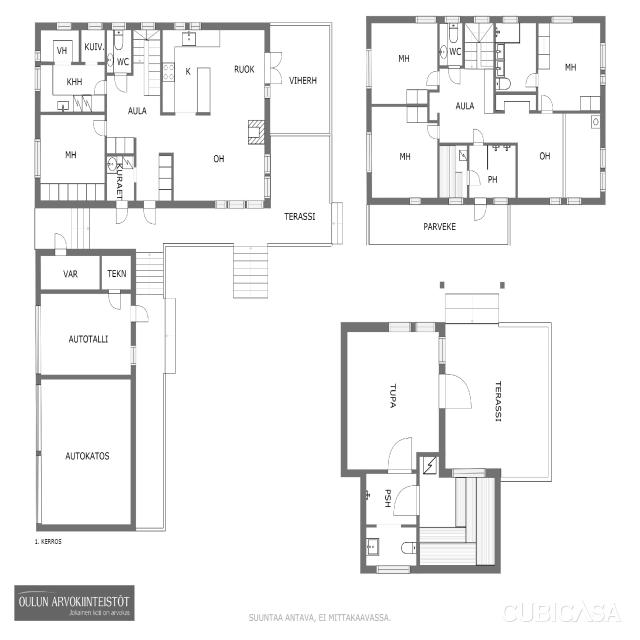door: (369, 473, 420, 524), (439, 370, 477, 417), (385, 434, 417, 476), (392, 482, 421, 520), (263, 51, 284, 88), (113, 202, 130, 228), (131, 303, 151, 325), (52, 230, 68, 256), (142, 202, 158, 227), (107, 288, 123, 312), (423, 69, 441, 89), (473, 199, 488, 223), (539, 92, 555, 114), (91, 118, 108, 138), (113, 71, 128, 93), (447, 64, 461, 86), (524, 70, 540, 89), (92, 78, 108, 96), (425, 122, 440, 141), (471, 127, 485, 147), (467, 170, 481, 188)
window: (34, 389, 44, 529), (386, 318, 439, 335), (215, 197, 264, 211), (448, 464, 492, 479), (33, 304, 41, 374), (373, 562, 412, 576), (263, 152, 273, 202), (598, 40, 608, 90), (598, 146, 608, 193), (364, 46, 374, 90), (436, 332, 448, 368), (365, 130, 374, 176), (33, 136, 42, 181), (548, 196, 583, 207), (548, 14, 576, 26), (171, 21, 202, 30), (413, 14, 439, 24), (490, 195, 510, 207), (84, 21, 106, 31), (499, 14, 521, 24), (472, 14, 492, 25), (130, 342, 138, 369), (34, 64, 41, 94), (264, 78, 272, 103), (53, 21, 75, 30), (110, 22, 128, 32), (444, 16, 462, 25), (446, 197, 464, 205), (408, 197, 423, 206), (84, 58, 100, 66), (138, 22, 156, 29), (186, 22, 204, 29), (35, 48, 41, 66)
zone: (36, 377, 135, 528), (344, 327, 443, 471), (162, 30, 270, 115), (170, 114, 269, 204), (37, 292, 134, 378), (515, 110, 603, 202), (420, 470, 498, 570), (369, 105, 438, 201), (537, 19, 602, 113), (38, 114, 106, 202), (369, 23, 438, 105), (38, 62, 106, 113), (495, 19, 537, 92), (366, 473, 420, 526), (468, 143, 516, 202), (362, 526, 417, 570), (39, 254, 102, 291), (439, 143, 469, 201), (38, 27, 81, 63), (105, 150, 134, 203), (100, 255, 132, 291), (438, 20, 462, 67), (109, 26, 132, 74), (80, 28, 105, 62)
